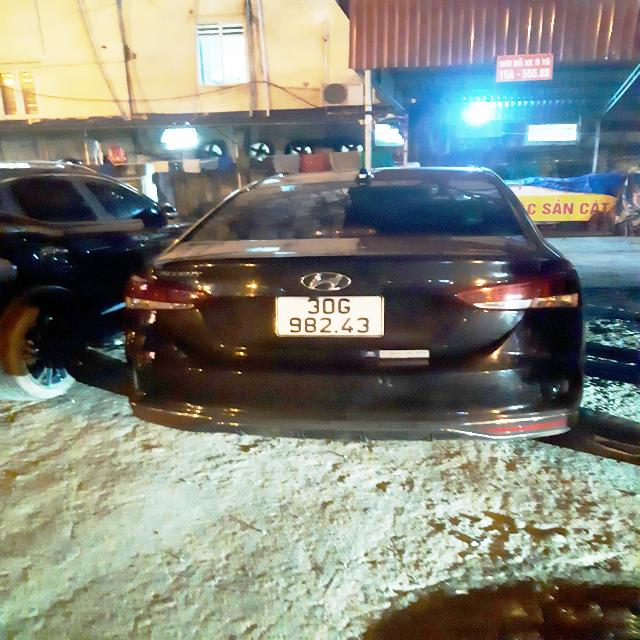license_plate: (270, 293, 391, 342)
